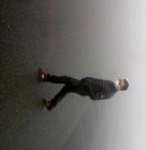person: (37, 66, 130, 112)
